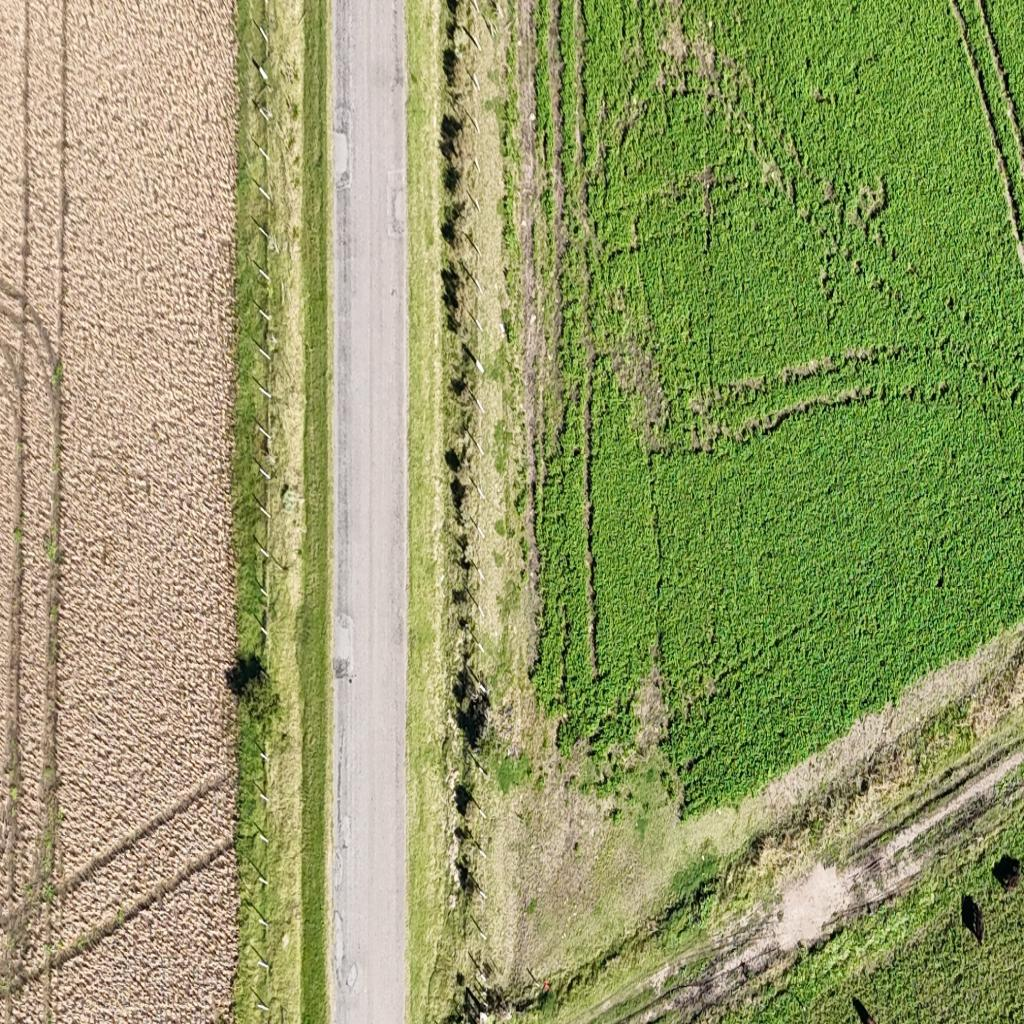cow: (992, 852, 1022, 899), (961, 893, 985, 945), (852, 995, 880, 1024)
